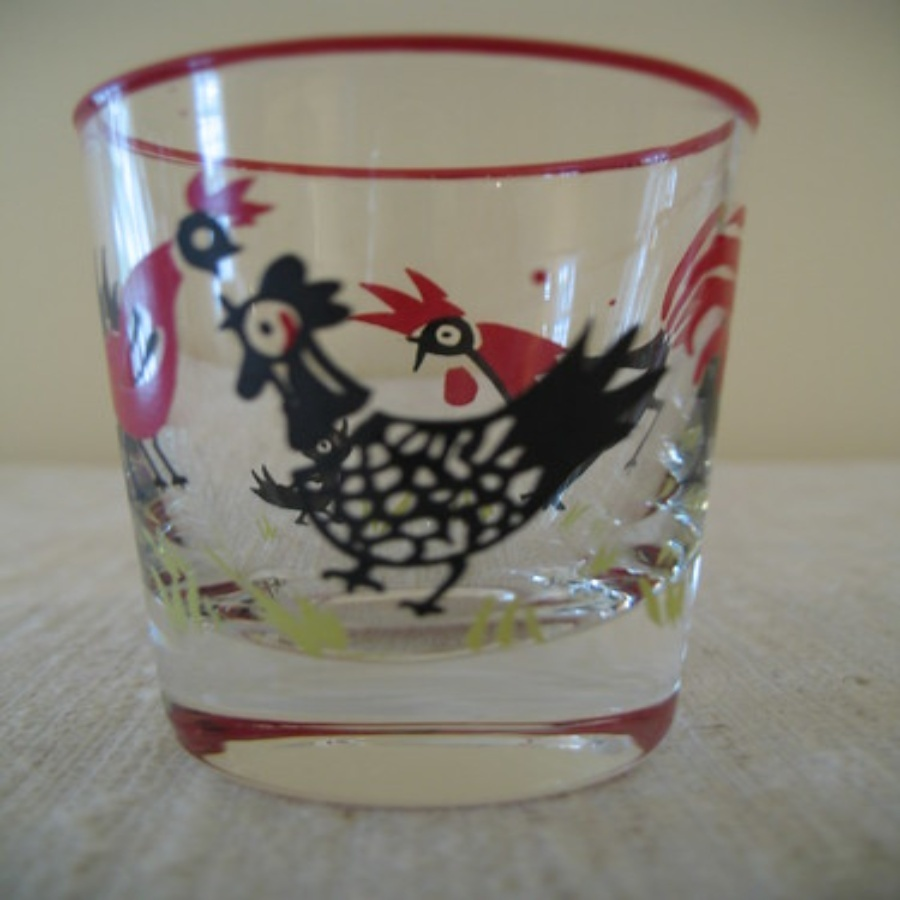whiskey: (89, 46, 756, 796)
